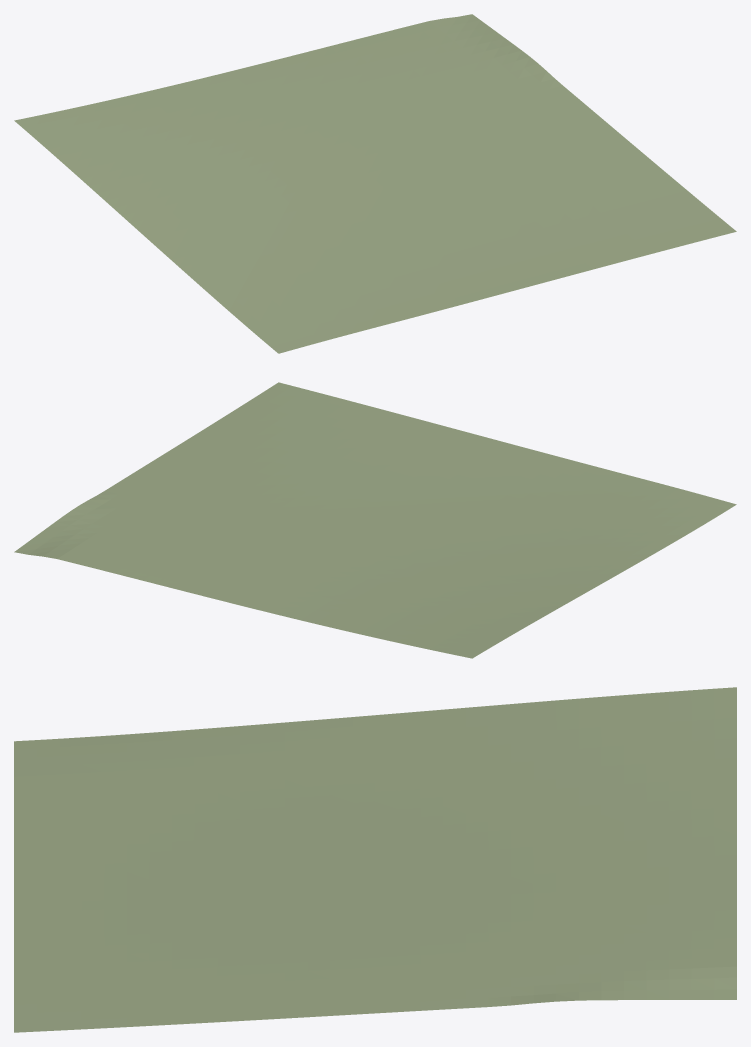
The model's file is lunar-4-5.glb.
3 views of the same model, one above another, from view 1: azimuth 30°, elevation 25°; view 2: azimuth 150°, elevation 25°; view 3: azimuth 270°, elevation 25° (orthographic). The views are drawn at different scales.
Parts seen in each view (by area): view 1: lunar-4-5; view 2: lunar-4-5; view 3: lunar-4-5.
Boxes of the visible parts, x1,y1,x2,y2 form: lunar-4-5: (14,14,736,353); lunar-4-5: (14,382,736,658); lunar-4-5: (14,687,736,1032).
Size of the model in its own units: 128 by 10.56 by 128.
